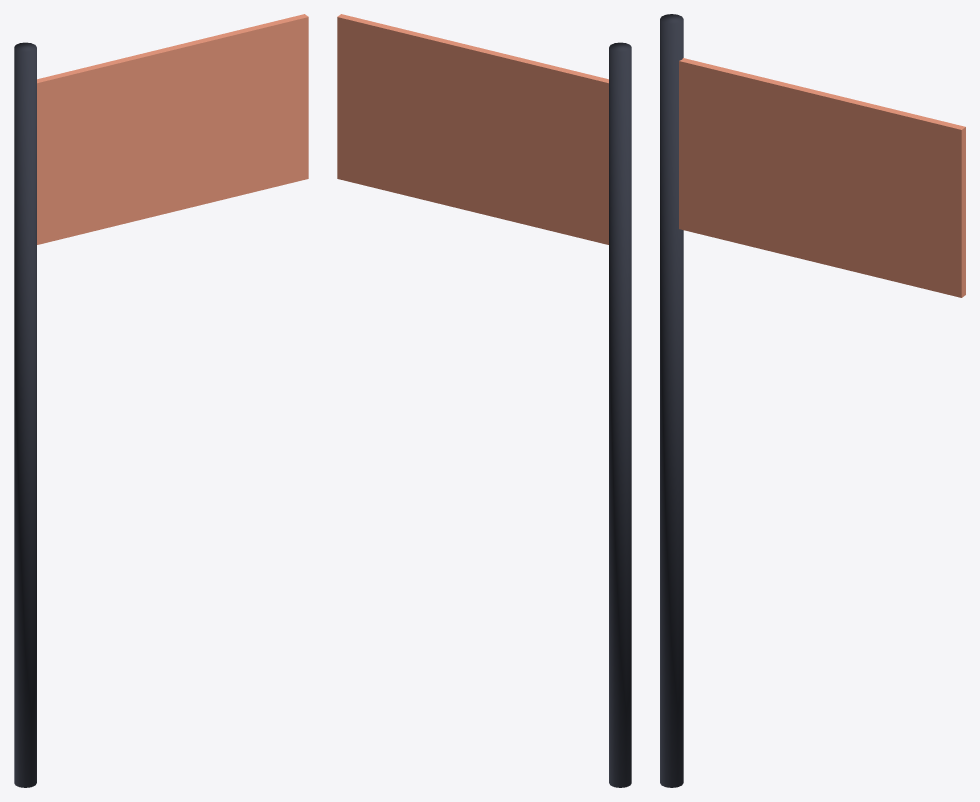
The model's file is Flag.fbx.
The picture shows the model from 3 angles, left to right: view 1: azimuth 30°, elevation 25°; view 2: azimuth 150°, elevation 25°; view 3: azimuth 330°, elevation 25°; orthographic projection. The views are drawn at different scales.
Parts seen in each view (by area): view 1: Flag, FlagPole; view 2: Flag, FlagPole; view 3: Flag, FlagPole.
Part boxes in pixels (<box>): Flag: <box>37,14,308,244</box>; FlagPole: <box>14,42,36,787</box>; Flag: <box>337,14,608,244</box>; FlagPole: <box>609,42,631,787</box>; Flag: <box>679,58,965,297</box>; FlagPole: <box>660,14,683,787</box>.
Size of the model in its own units: 1.04 by 2.5 by 0.07.
